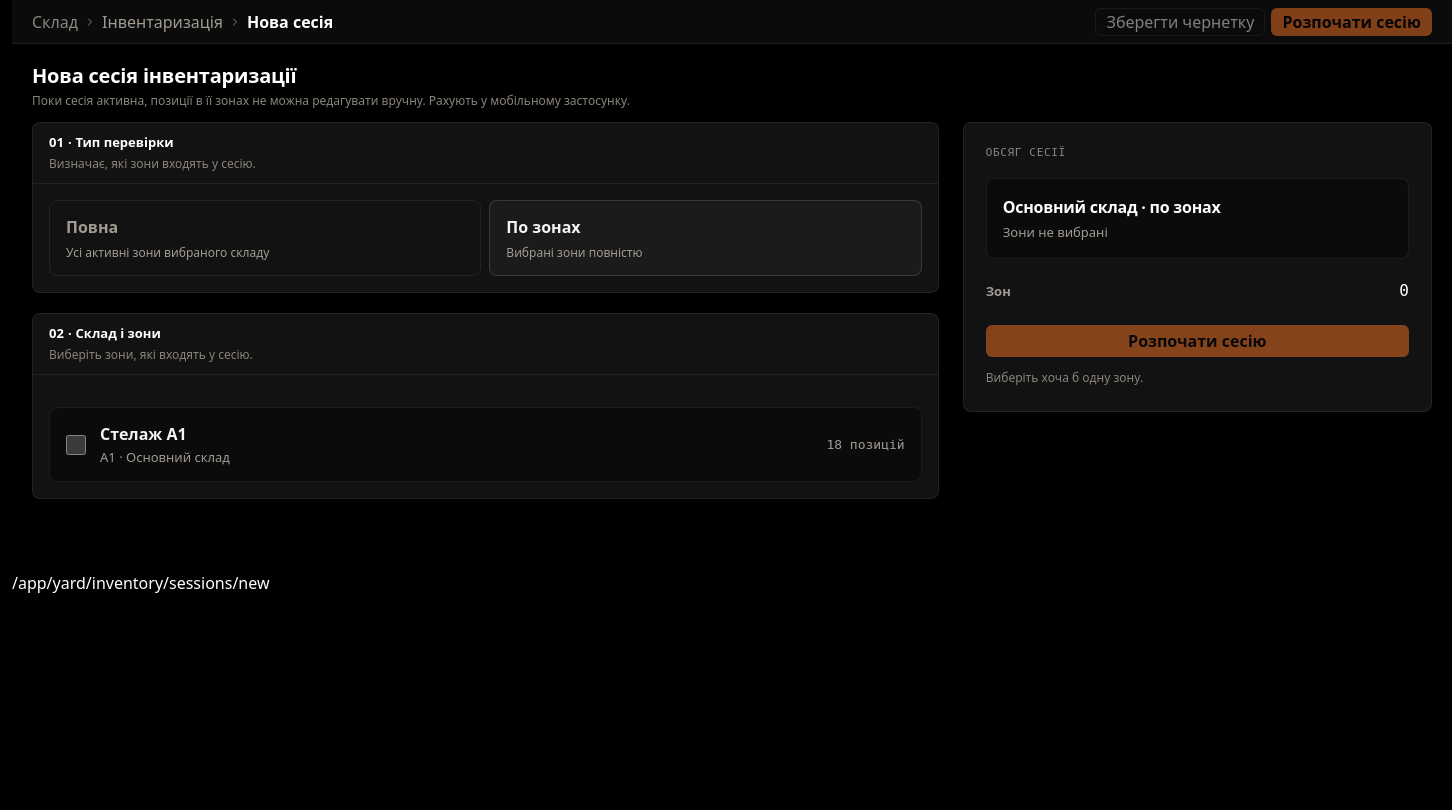
Test: picks every zone of the warehouse for a full check
The width and height of the screenshot is (1452, 810).
Expected: the heading "Нова сесія інвентаризації" is shown, [32,62,296,89]
Click the radio button labelled "Повна Усі активні зони вибраного складу" at coordinates (92, 226), box [49,200,481,276]
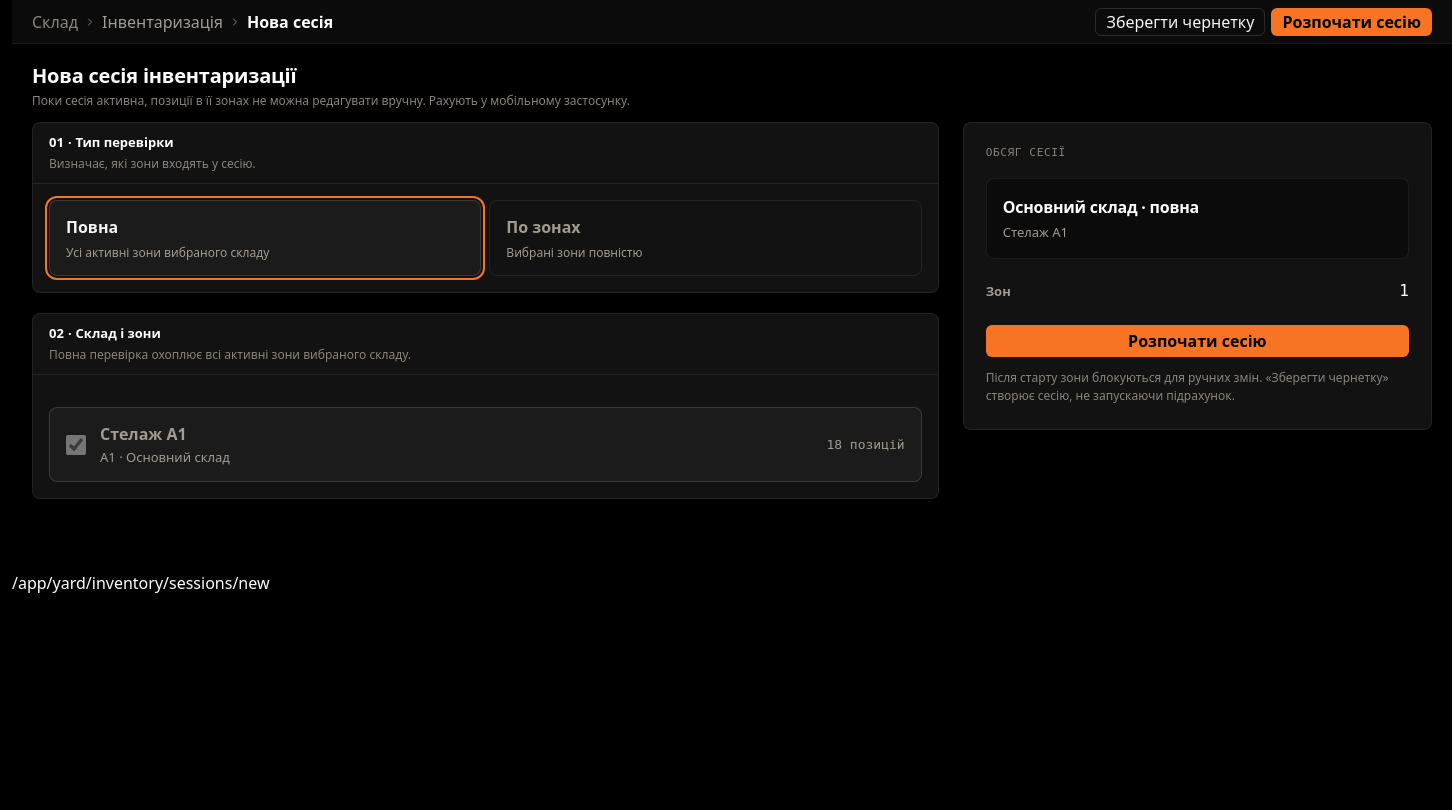
Expected: the checkbox labelled "Стелаж A1 A1 · Основний склад 18 позицій" is checked, [66,434,86,454]
Expected: the checkbox labelled "Стелаж A1 A1 · Основний склад 18 позицій" is disabled, [66,434,86,454]
